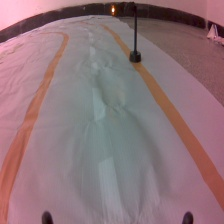yellow: (109, 1, 143, 64)
